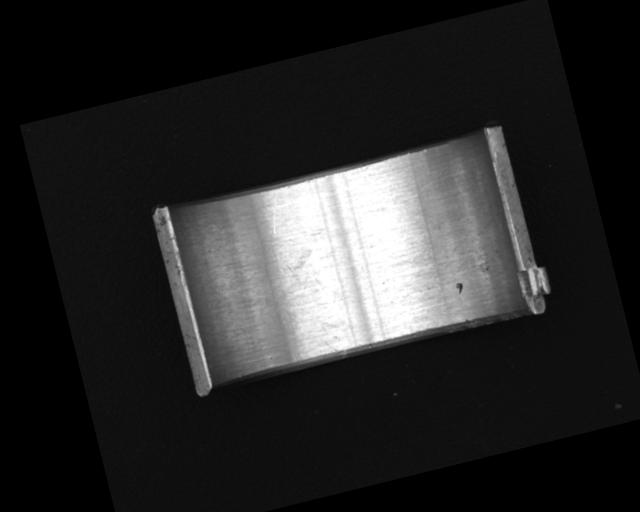blot: (267, 245, 324, 303)
bruise: (453, 280, 466, 296)
nick: (263, 192, 286, 234)
